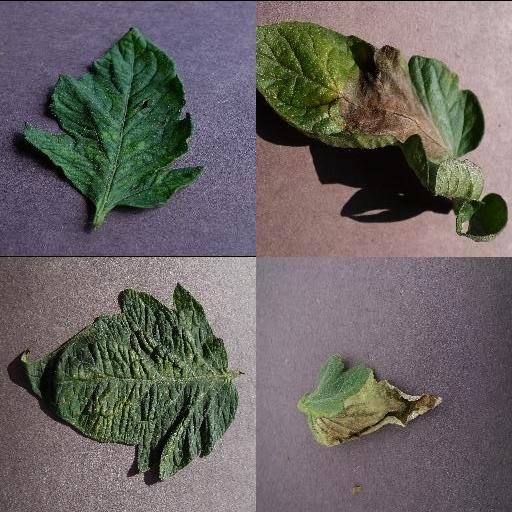Late Blight: (256, 18, 485, 200), (304, 353, 444, 447)
Mosaic Virus: (23, 25, 205, 209)
Spider Mites: (18, 283, 238, 479)
